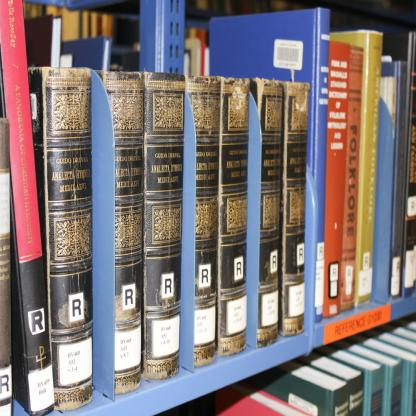book: (204, 5, 326, 328), (27, 64, 96, 412), (2, 0, 57, 416), (246, 318, 416, 416), (96, 70, 144, 394), (330, 29, 383, 311), (140, 67, 180, 380), (212, 72, 250, 352), (185, 71, 219, 374), (283, 77, 313, 339), (252, 78, 280, 349), (390, 28, 416, 305), (366, 55, 390, 310), (327, 34, 343, 320), (345, 44, 361, 315), (0, 118, 13, 416), (216, 378, 310, 416), (184, 28, 212, 84)
